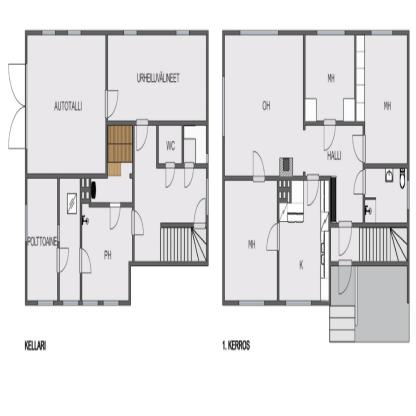door: (6, 62, 27, 108), (5, 110, 27, 150), (263, 219, 281, 254), (338, 258, 353, 296), (306, 172, 319, 212), (130, 209, 146, 241), (134, 117, 149, 151), (252, 148, 266, 184), (323, 117, 337, 153), (350, 170, 366, 199), (338, 219, 351, 254), (104, 88, 119, 118), (352, 133, 367, 163), (108, 203, 122, 235), (78, 248, 93, 277), (164, 160, 176, 194), (195, 192, 206, 226), (56, 246, 70, 272), (183, 163, 194, 192)
window: (286, 296, 312, 310), (238, 298, 264, 310), (240, 30, 277, 38), (315, 29, 346, 37), (66, 30, 82, 40), (24, 204, 28, 240), (38, 299, 52, 309), (206, 178, 210, 212), (62, 299, 77, 308), (41, 29, 55, 38), (176, 29, 190, 37), (82, 299, 98, 306), (371, 30, 392, 35), (123, 30, 137, 37), (103, 300, 118, 306), (206, 150, 209, 164)
zone: (224, 34, 304, 173), (27, 35, 105, 174), (136, 128, 206, 259), (109, 34, 206, 117), (356, 34, 406, 163), (225, 180, 278, 300), (82, 180, 132, 295), (332, 266, 408, 341), (304, 124, 362, 220), (280, 182, 328, 296), (305, 35, 355, 124), (28, 178, 57, 300), (91, 121, 133, 203), (331, 229, 407, 260), (60, 179, 79, 299), (366, 167, 407, 219), (159, 125, 183, 164), (184, 127, 205, 161)
